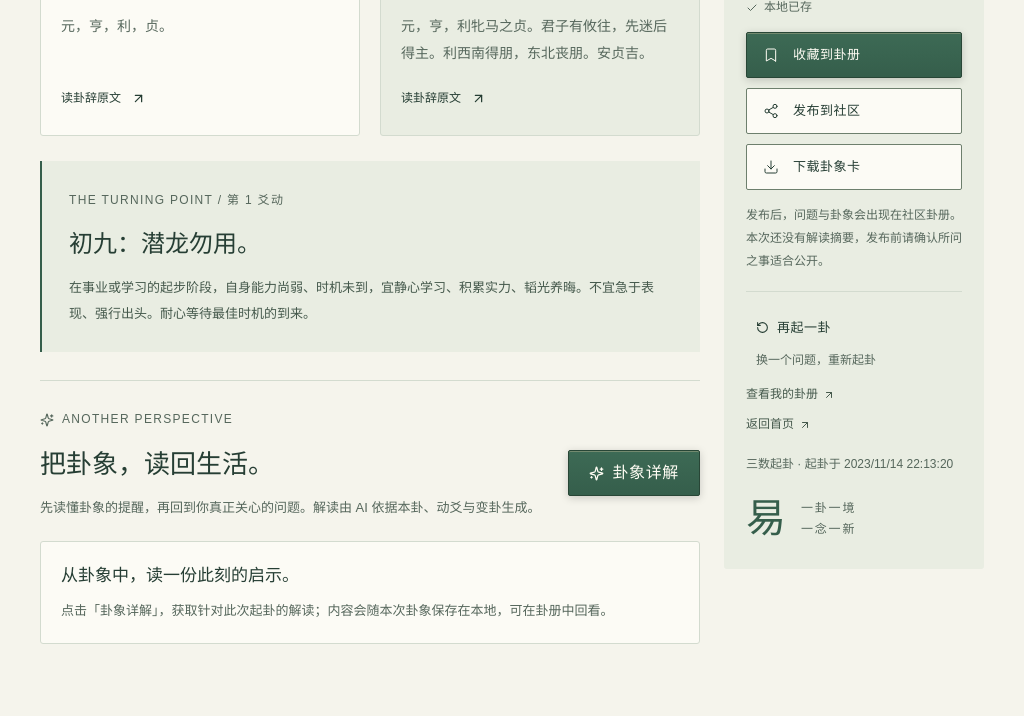
Test case: ResultDisplay › keeps generated text visible and warns when its cache cannot be saved
(page scrolled)
Click the button "卦象详解": [634, 473] box x1=568 y1=450 x2=700 y2=496
(page scrolled)
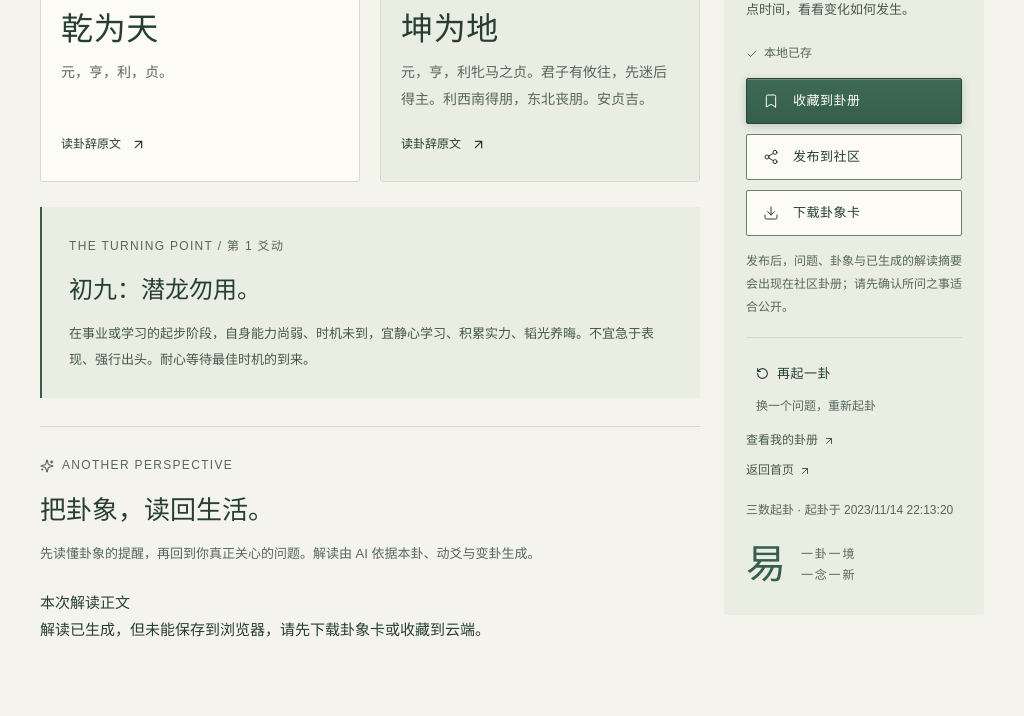
Now the message shows "未能保存到浏览器", box x1=40 y1=621 x2=490 y2=638
Now the text "本次解读正文" is shown, box x1=40 y1=595 x2=130 y2=611
